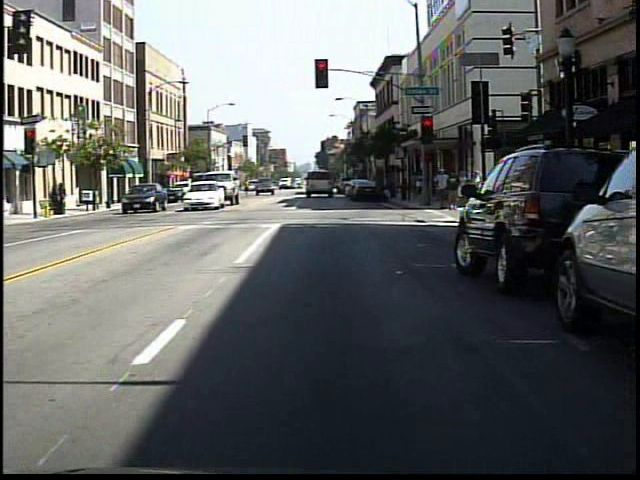person: (468, 166, 487, 209), (433, 165, 452, 207), (446, 168, 461, 214), (410, 166, 427, 202), (456, 169, 470, 208), (238, 173, 255, 202)
